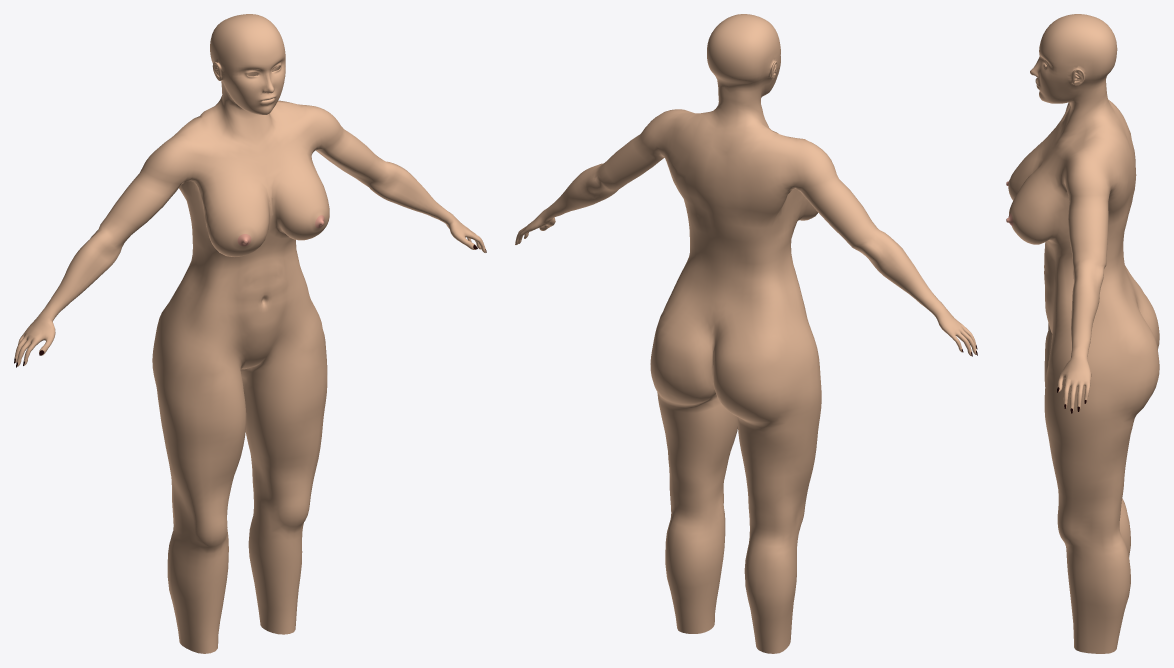
File: Battle_Nun.fbx
3 views of the same model, side by side, from view 1: azimuth 30°, elevation 25°; view 2: azimuth 150°, elevation 25°; view 3: azimuth 270°, elevation 25° (orthographic). The views are drawn at different scales.
Visible parts, largest first — view 1: Body retopo.008; view 2: Body retopo.008; view 3: Body retopo.008.
Part boxes in pixels (x1,y1,x2,y2): Body retopo.008: (14,14,486,653); Body retopo.008: (515,14,977,653); Body retopo.008: (1006,14,1159,653).
Bounding box in the file's own units: 134 × 170 × 38.72.
